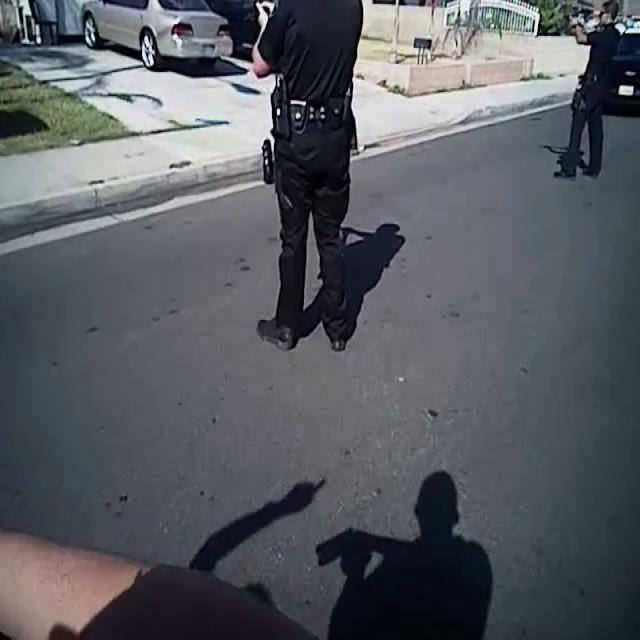gun: (245, 0, 282, 29), (567, 10, 587, 42)
